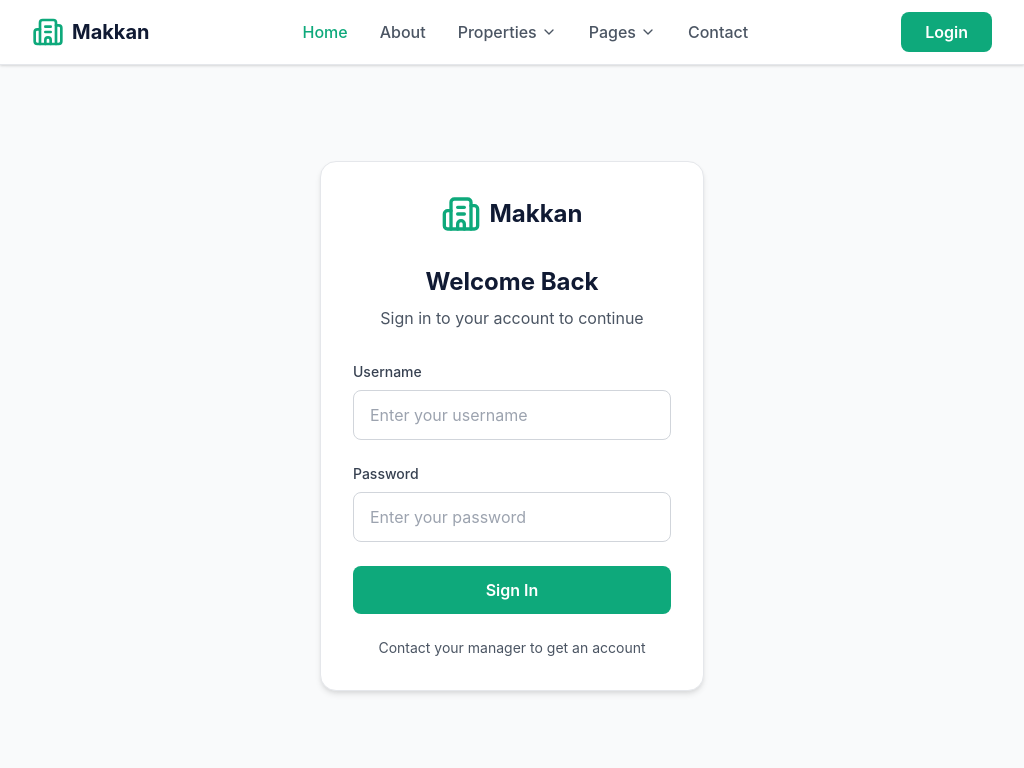
Test: Login Component › disables button and shows loading state during login
The image size is (1024, 768).
Type "testuser" into the field labelled "Username" at coordinates (512, 415), box [353,390,671,440]
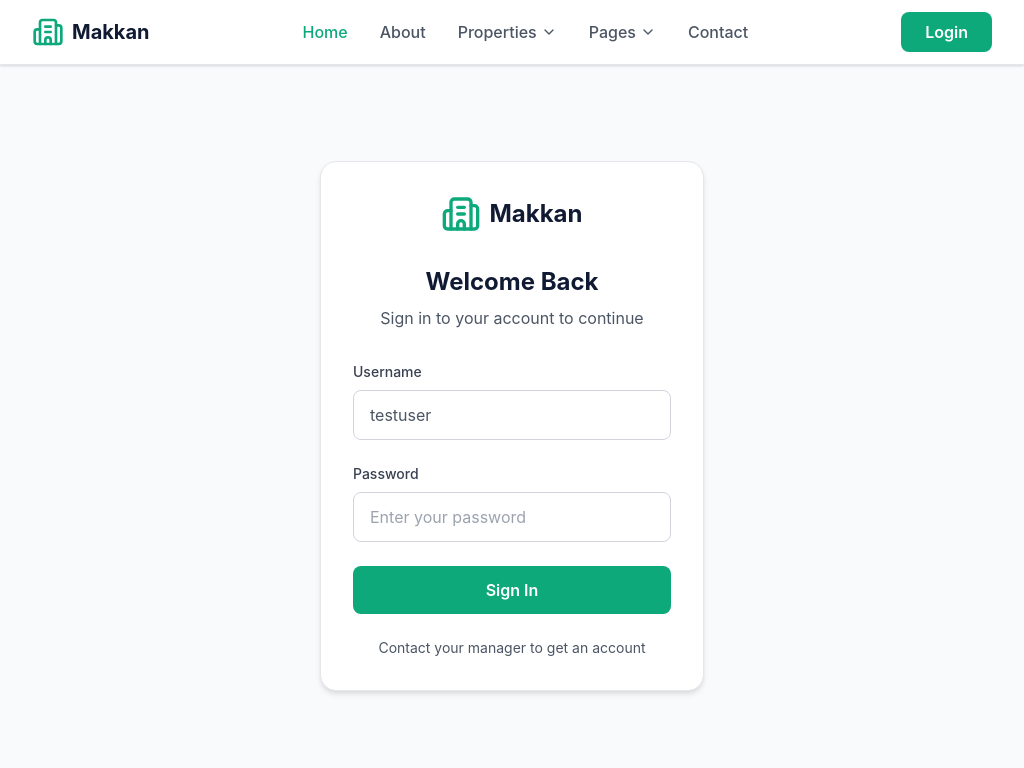
Type "testpass" into the password field labelled "Password" at coordinates (512, 517), box [353,492,671,542]
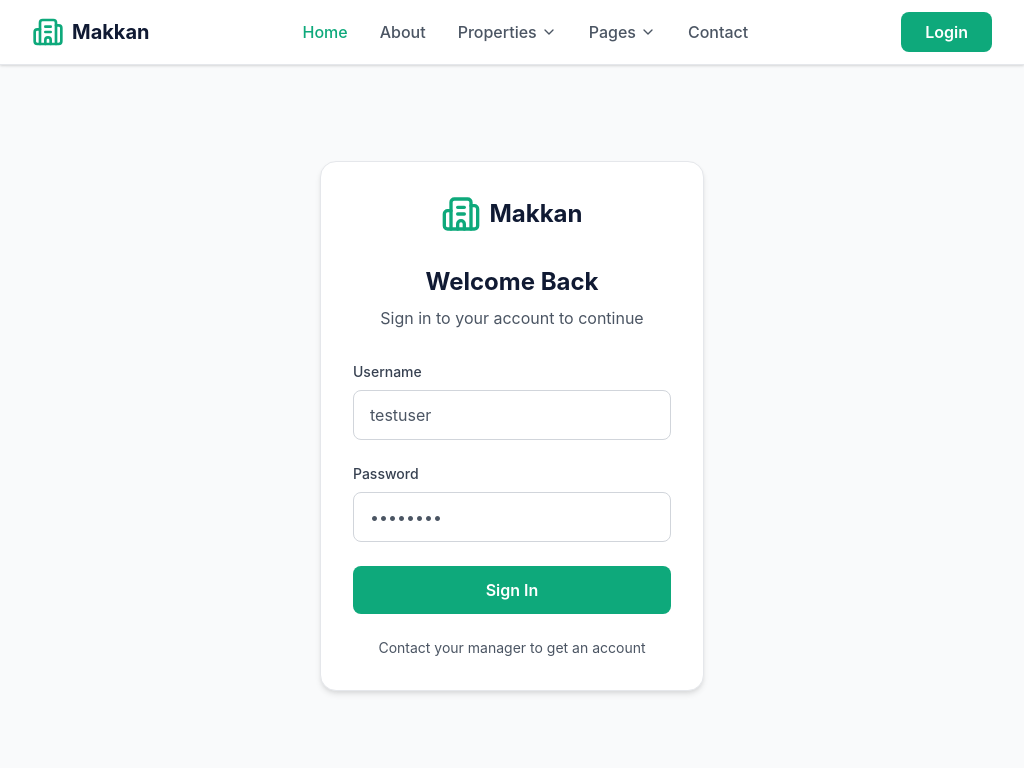
Click the button "Sign In" at coordinates (512, 590), box [353,566,671,614]
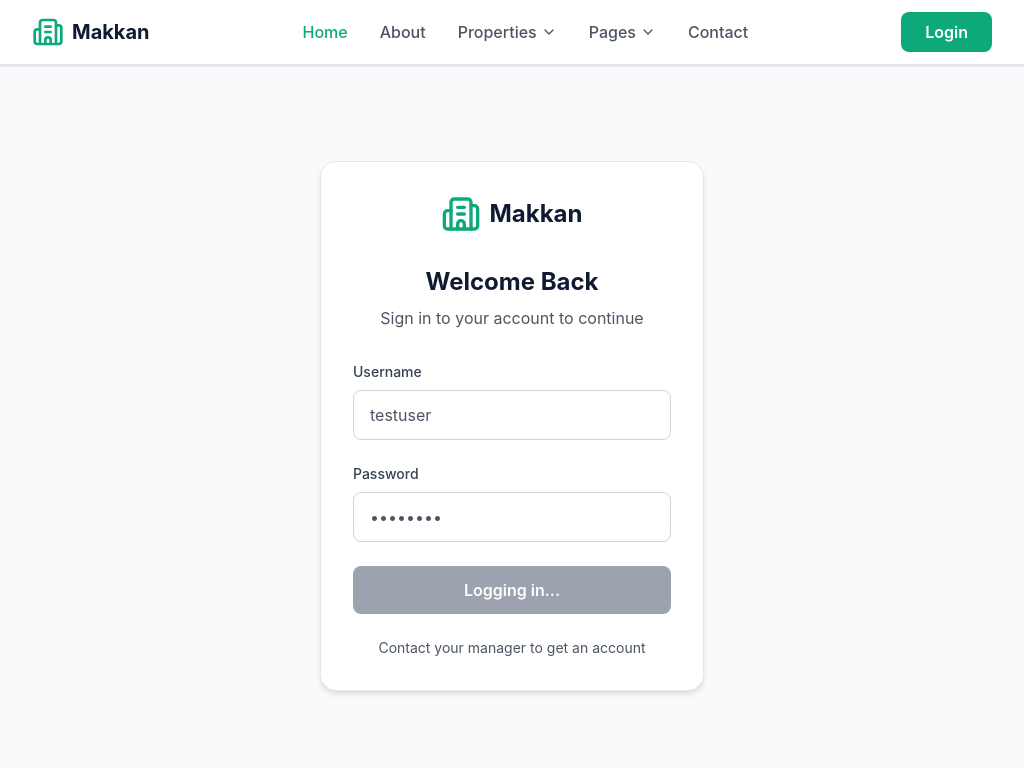
Check: the button "Logging in..." is disabled, box [353,566,671,614]
